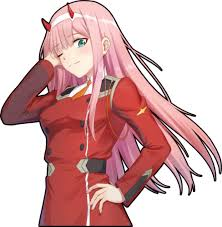zeroTwo: (33, 1, 135, 79)
